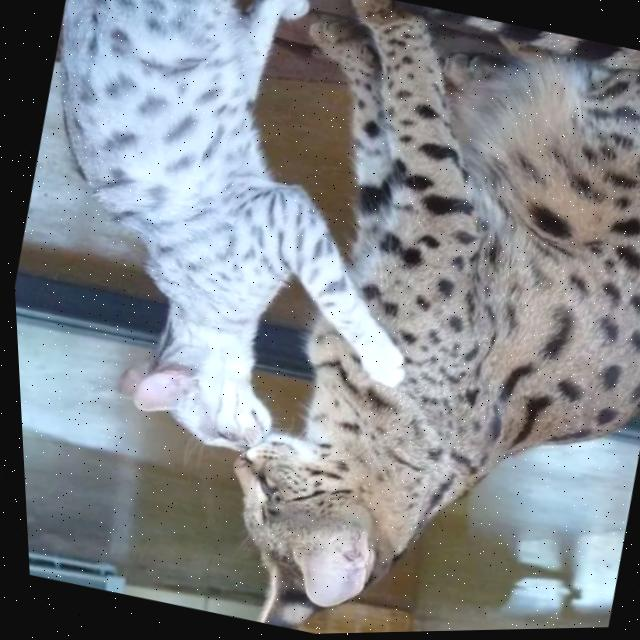Savannah: (178, 0, 640, 637), (0, 0, 488, 499)
